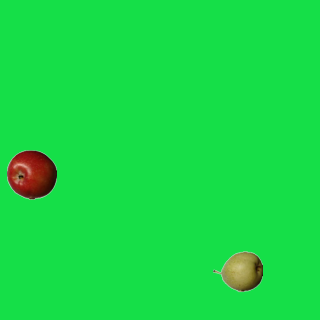Apple Braeburn: (6, 149, 56, 199)
Pear: (212, 246, 262, 296)
